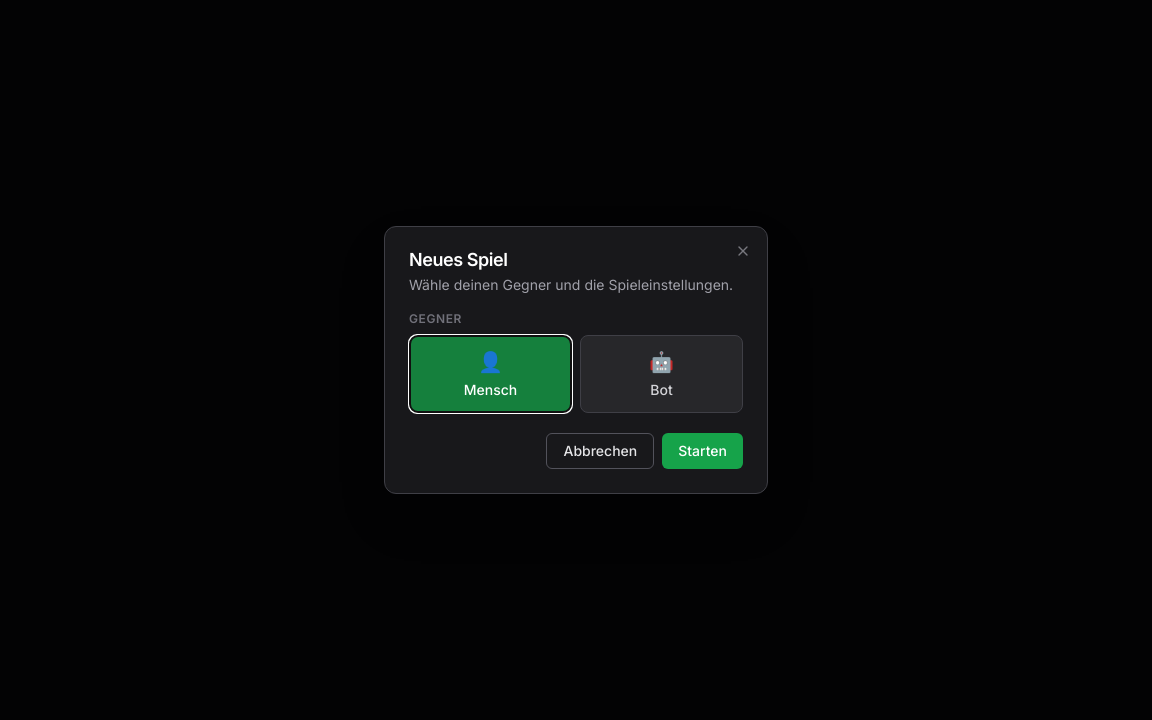
Test case: GameSetupModal › shows color and ELO options when bot is selected
This screenshot has width=1152, height=720.
What coordinates should you click on to do the following:
click the button with test id "btn-opponent-bot"
I would click on:
 (662, 374)
Its box is [580,335,743,413].
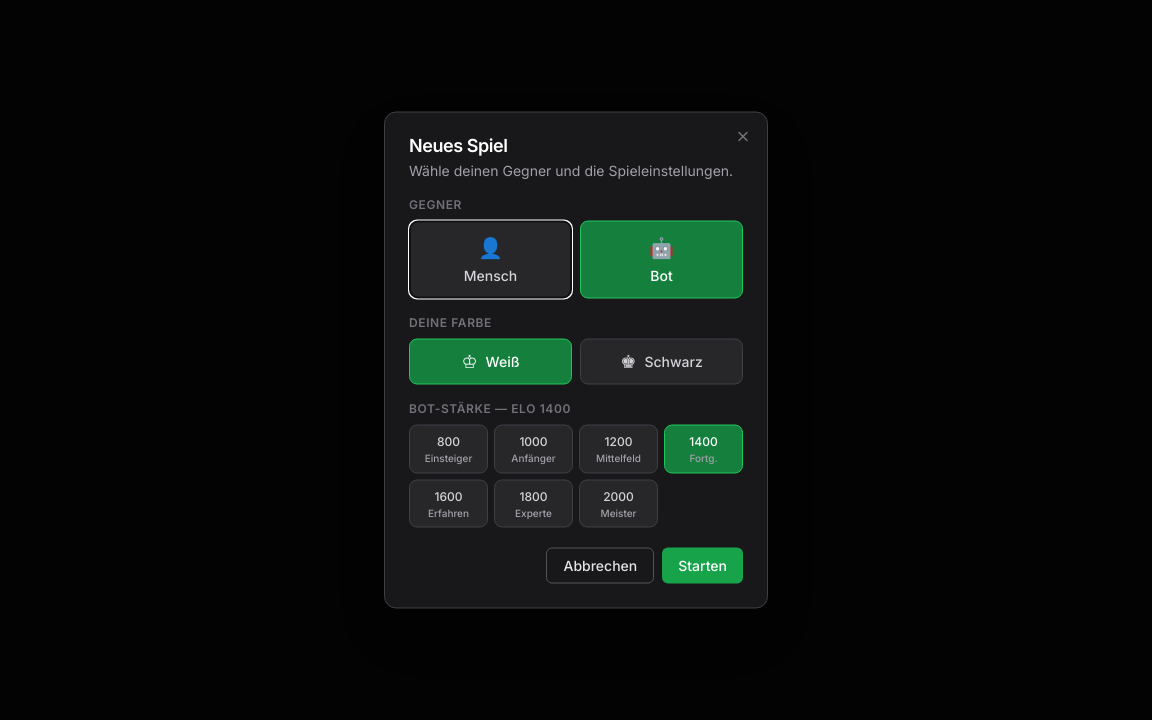
Expected: the button with test id "btn-color-white" is shown, [409,338,572,384]
Expected: the button with test id "btn-color-black" is shown, [580,338,743,384]
Expected: the button with test id "btn-elo-1400" is shown, [664,424,743,473]
